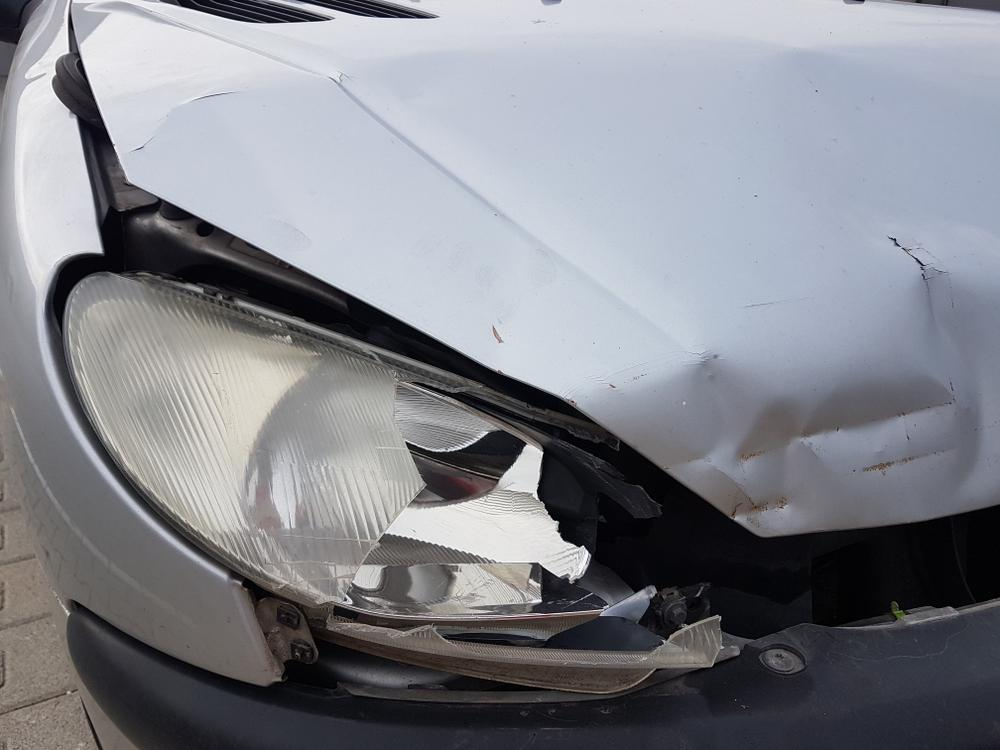dent: (117, 37, 1000, 538)
lamp broken: (63, 268, 642, 637)
